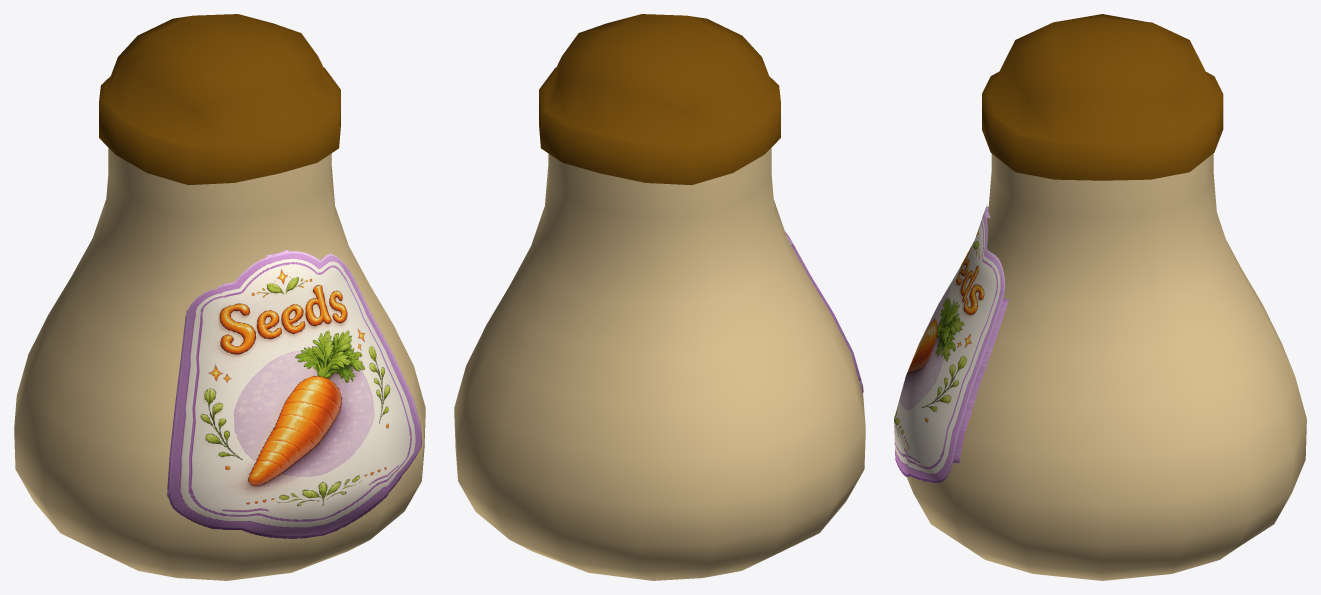
Rendered from seed_carrot.glb.
The picture shows the model from 3 angles, left to right: view 1: azimuth 30°, elevation 25°; view 2: azimuth 150°, elevation 25°; view 3: azimuth 270°, elevation 25°; orthographic projection.
Parts seen in each view (by area): view 1: seed_carrot; view 2: seed_carrot; view 3: seed_carrot.
Part boxes in pixels (x1,y1,x2,y2): seed_carrot: (14, 14, 425, 580); seed_carrot: (454, 14, 865, 580); seed_carrot: (894, 14, 1306, 580).
Size of what is drawn, in the model's own units: 0.3161 by 0.4348 by 0.3193.
3 materials, 1 textured.
